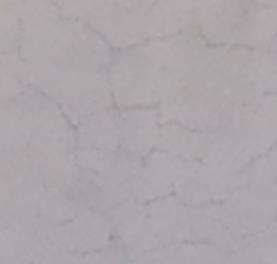retracao: (22, 27, 277, 264)
